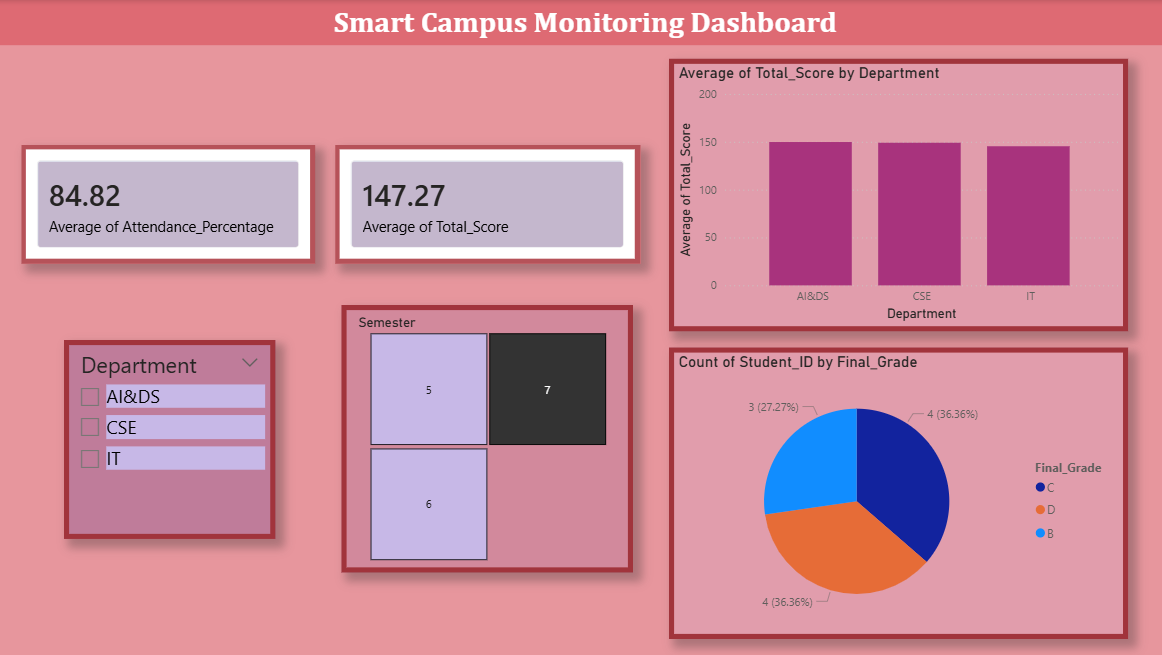

The page's visual inventory and layout, read from the dashboard file:
{"tool":"powerbi","page":{"name":"Page 1","canvas":[1280,720],"ordinal":0},"visuals":[{"type":"textbox","box":[0,0,1280.3,49.4],"z":0},{"type":"cardVisual","fields":{"Data":["Avg(5 student_performance.Attendance_Percentage)"]},"box":[24.7,159.2,322.5,130.4],"z":1000},{"type":"cardVisual","fields":{"Data":["Avg(5 student_performance.Total_Score)"]},"box":[369.1,159.2,334.8,130.4],"z":2000},{"type":"slicer","fields":{"Values":["5 student_performance.Department"]},"box":[71.7,373.3,231.7,218.3],"z":3000},{"type":"slicer","fields":{"Values":["5 student_performance.Semester"]},"box":[376.7,335,320,293.3],"z":4000},{"type":"clusteredColumnChart","fields":{"Y":["Avg(5 student_performance.Total_Score)"],"Category":["5 student_performance.Department","5 student_performance.Semester","5 student_performance.Subject"]},"box":[735.9,63.9,504.3,299.2],"z":5000},{"type":"pieChart","fields":{"Category":["5 student_performance.Final_Grade"],"Y":["CountNonNull(5 student_performance.Student_ID)"]},"box":[735.9,381.2,504.3,319.7],"z":6000}]}

Visuals, with their boxes in screenshot pixels (x1, y1, x2, y2), scaled from the page's 1280x720 canvas onto the 1162x655 screenshot:
textbox: 0 0 1161 45
cardVisual - Avg(5 student_performance.Attendance_Percentage): 22 145 315 263
cardVisual - Avg(5 student_performance.Total_Score): 335 145 639 263
slicer - 5 student_performance.Department: 65 340 275 538
slicer - 5 student_performance.Semester: 342 305 632 572
clusteredColumnChart - Avg(5 student_performance.Total_Score) x 5 student_performance.Department: 668 58 1126 330
pieChart - 5 student_performance.Final_Grade x CountNonNull(5 student_performance.Student_ID): 668 347 1126 638
